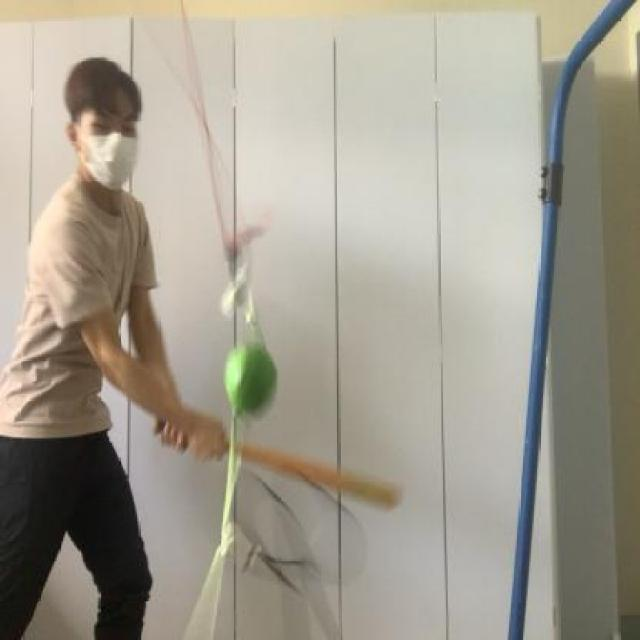baseball: (214, 328, 272, 418)
